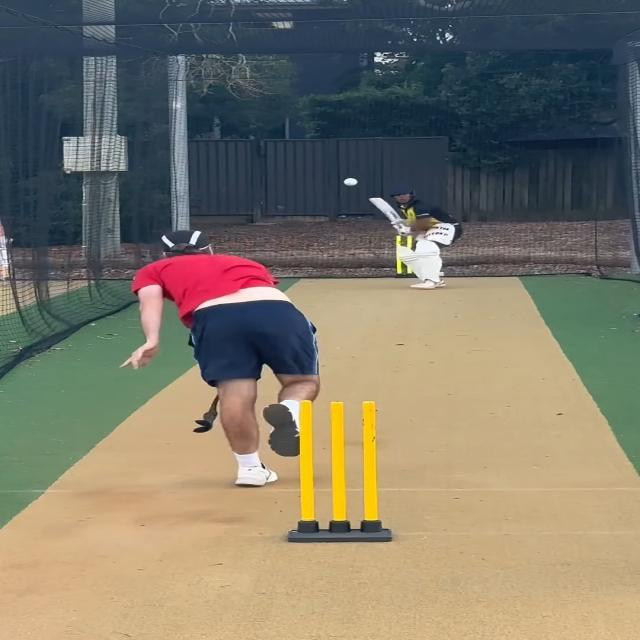ball: (342, 176, 360, 187)
stump: (289, 400, 392, 544)
